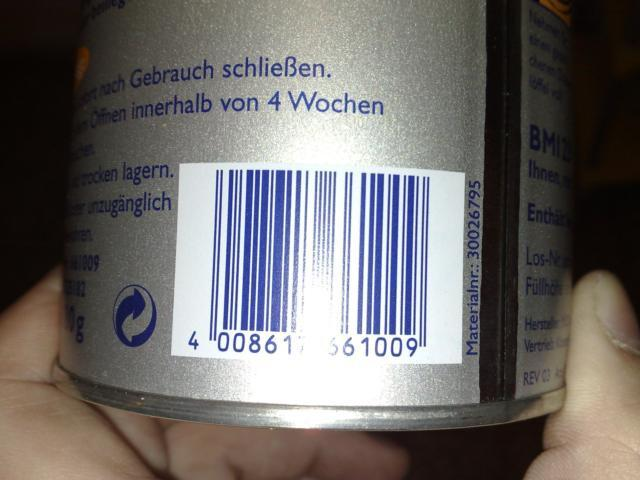Barcode: (171, 160, 462, 369)
